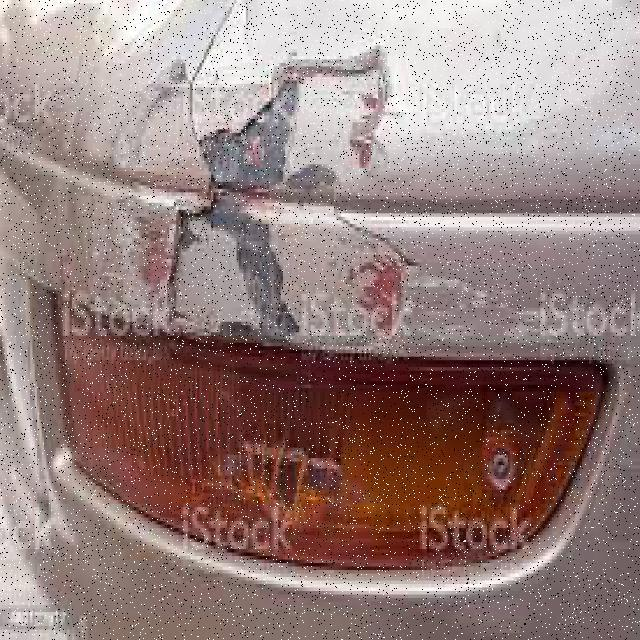rear-bumper-dent: (0, 0, 619, 462)
